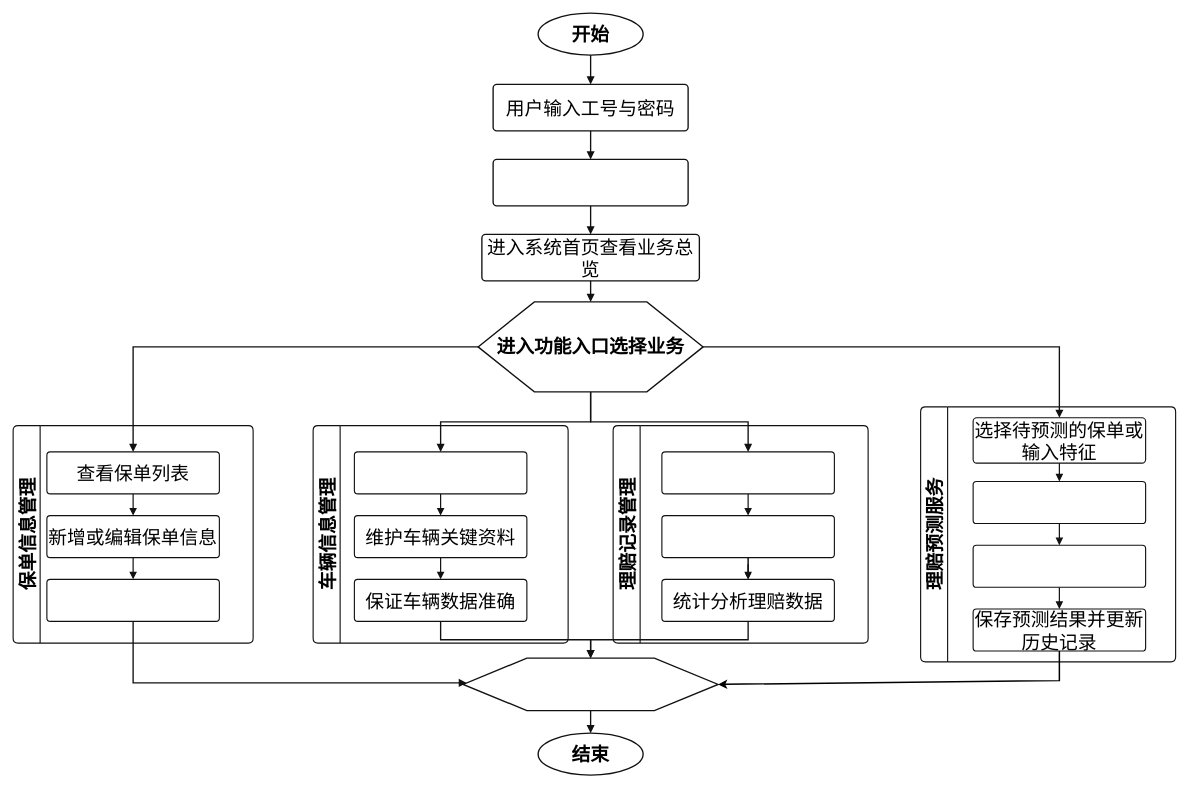
The diagram is 1190 pixels wide and 789 high, and some of its shapes have lost their labels. The centre of each missing label's shape, as x and y in pixels:
"发起预测并由系统自动校对" goes at (x=1059, y=502).
"完成风险评估" goes at (x=1059, y=565).
"查看理赔类记录列表" goes at (x=748, y=472).
"查看统计分析与预测结果" goes at (x=590, y=684).
"查看车辆基本信息" goes at (x=440, y=472).
"系统校验账号并确认权限" goes at (x=590, y=182).
"统计分析保单数据" goes at (x=133, y=600).
"维护理赔记录" goes at (x=748, y=536).
